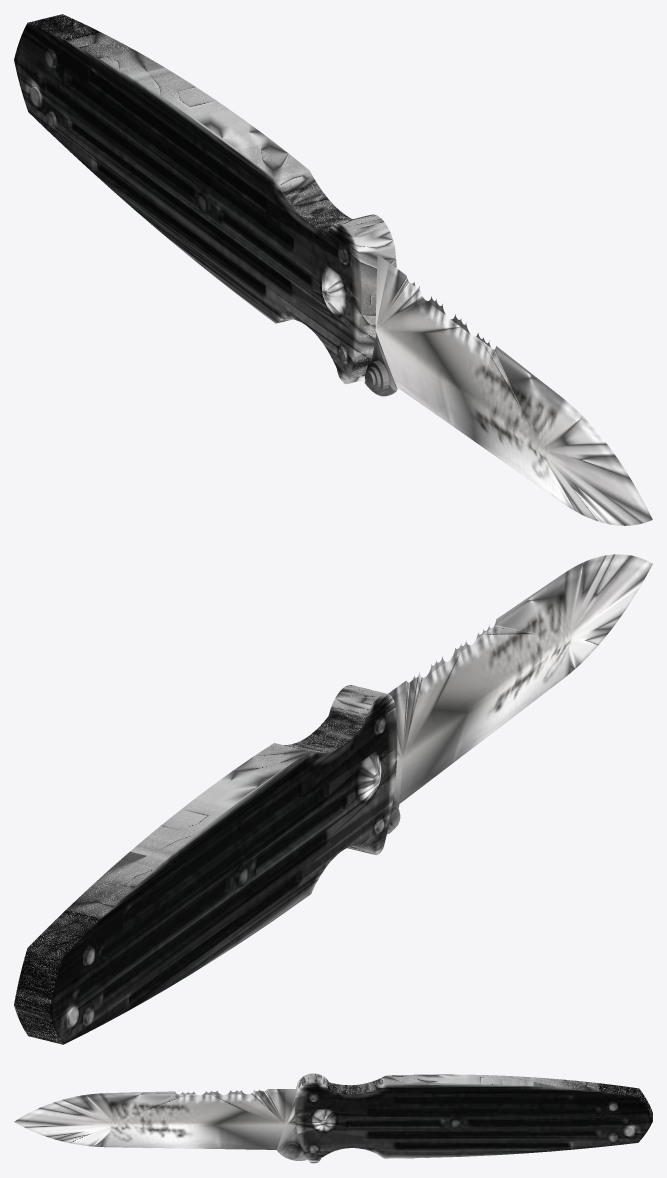
The model's file is model_align.obj.
3 views of the same model, one above another, from view 1: azimuth 30°, elevation 25°; view 2: azimuth 150°, elevation 25°; view 3: azimuth 270°, elevation 25° (orthographic). The views are drawn at different scales.
Size of the model in its own units: 0.0104 by 0.0316 by 0.2213.
3 materials, 3 textured.
